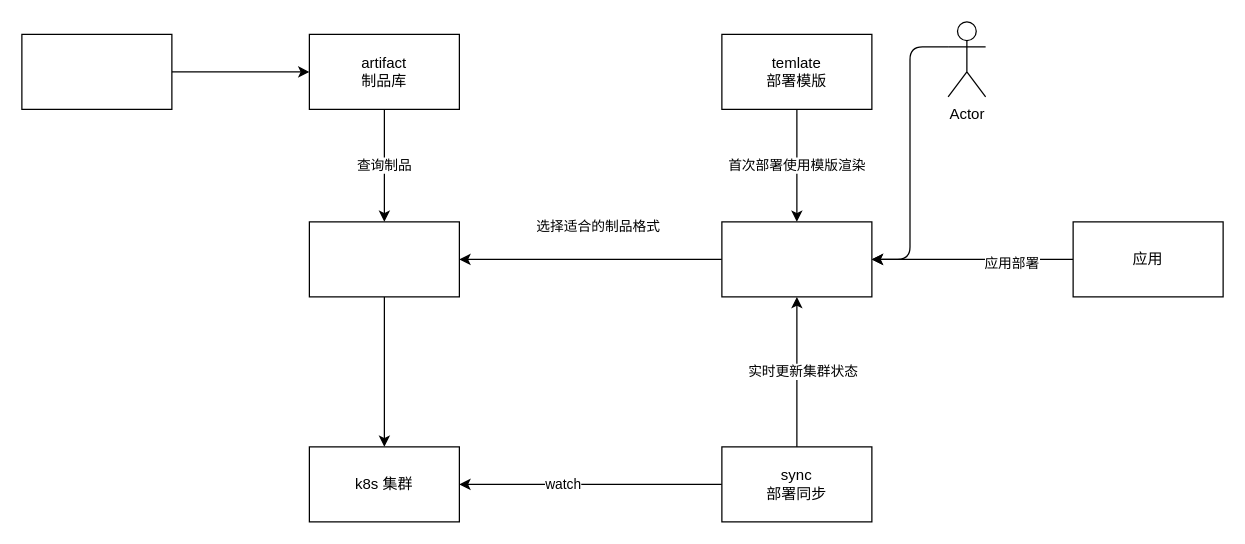
The diagram is 1245 pixels wide and 544 high, and some of its shapes have lost their labels. Each missing label, with the centre of its shape:
CI工具: point (96, 71)
cluster 应用集群: point (796, 259)
deploy 应用部署: point (383, 259)
